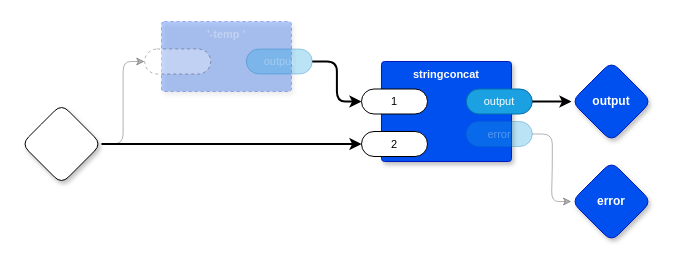
Some shapes in this 675 by 266 pixel diagram are drawn without their labels. Each missing label, with the centre of its shape:
go: the point at 177,61
input: the point at 62,145
